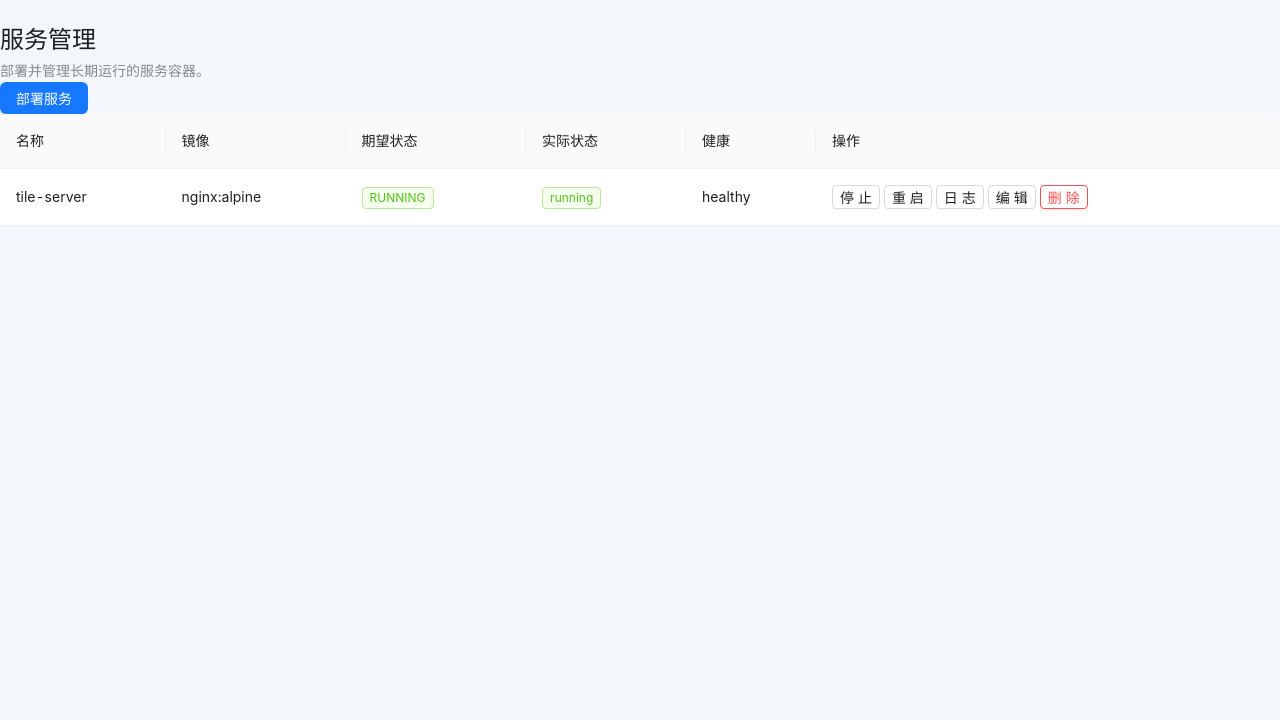
Test: ServicesPage › loads the bounded log tail in a modal
The image size is (1280, 720).
Click the button "日 志": (960, 197) left=936, top=185, right=984, bottom=209
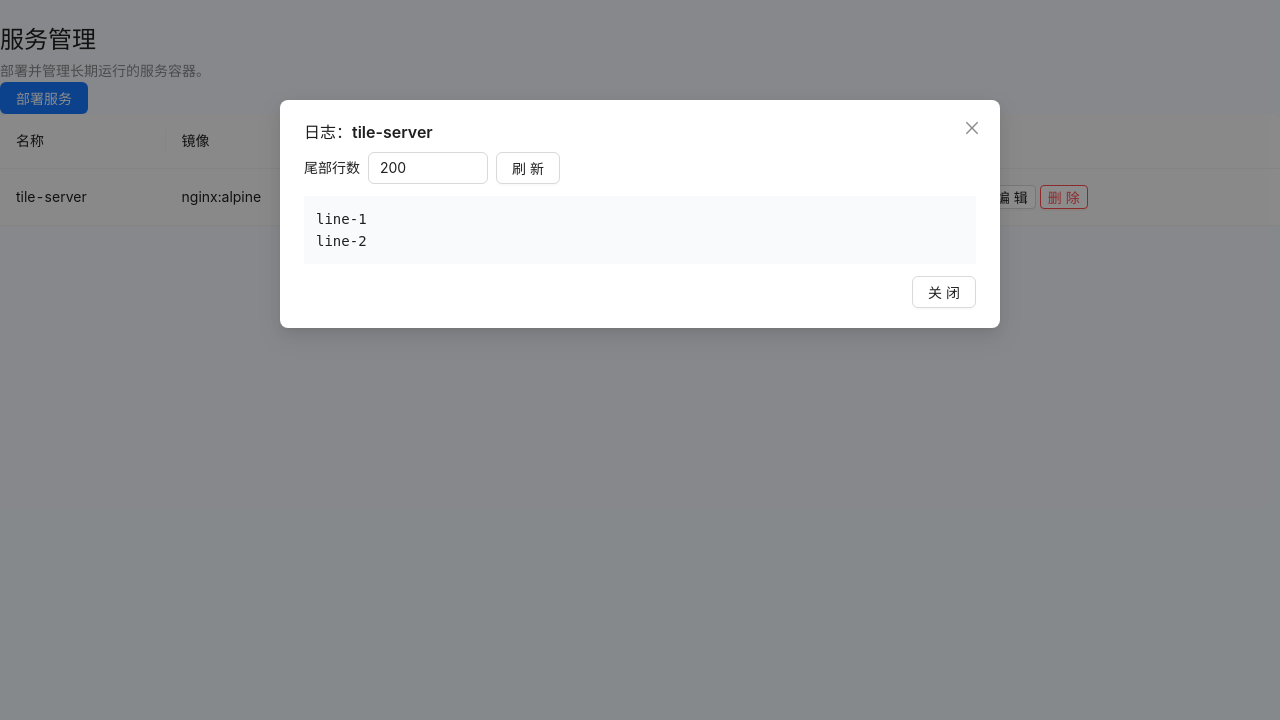
Now the text named "服务日志" shows "line-1", box left=316, top=211, right=367, bottom=249
